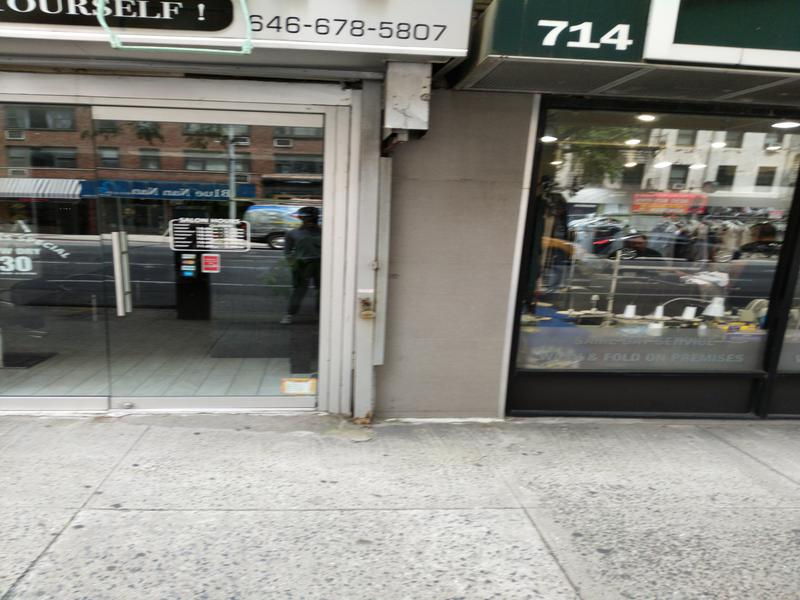door: (89, 90, 345, 423)
